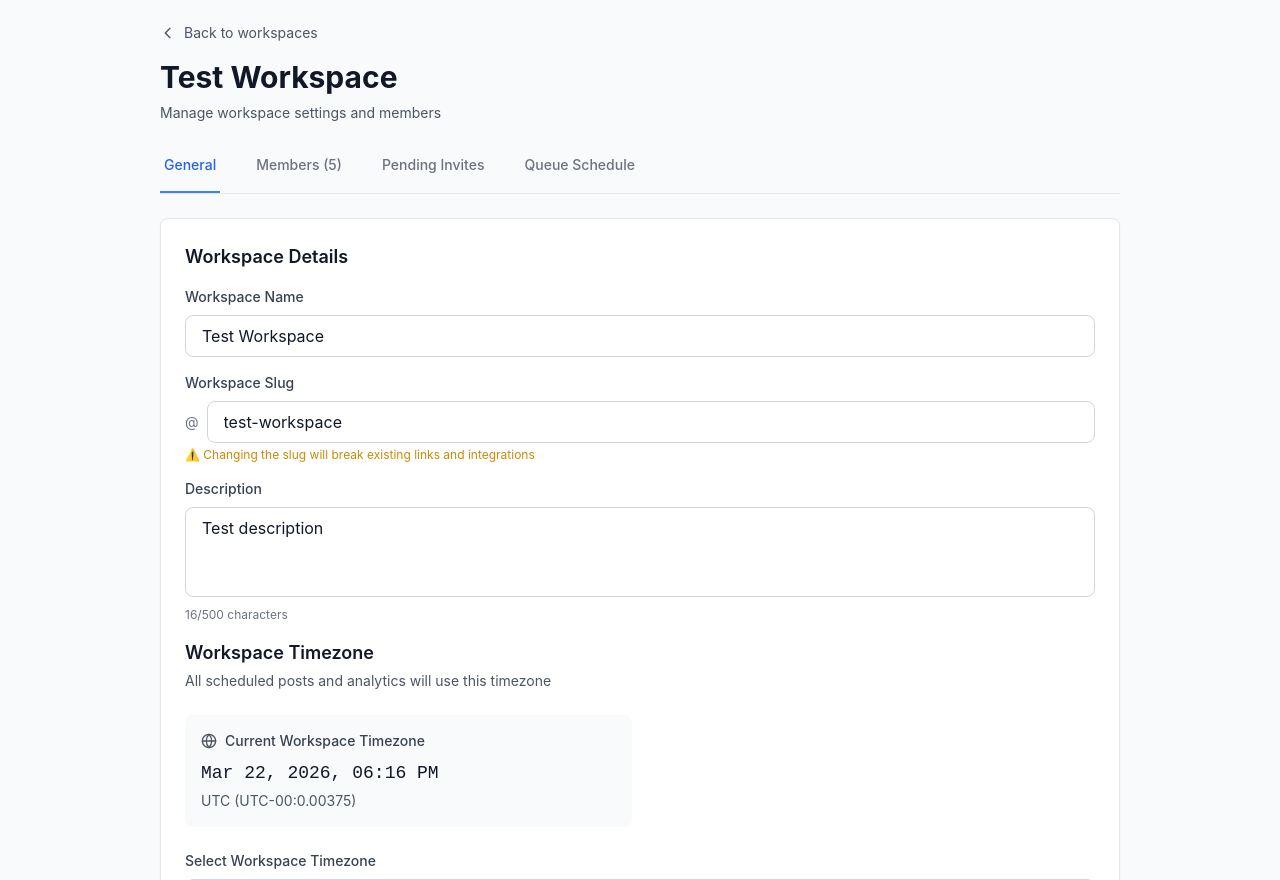
workspace name › shows a spinner inside the Save button while in-flight
Replace the text in the field showing "Test Workspace" below "Workspace Name" with "Updated Workspace" at [640, 336], box [185,315,1095,357]
(page scrolled)
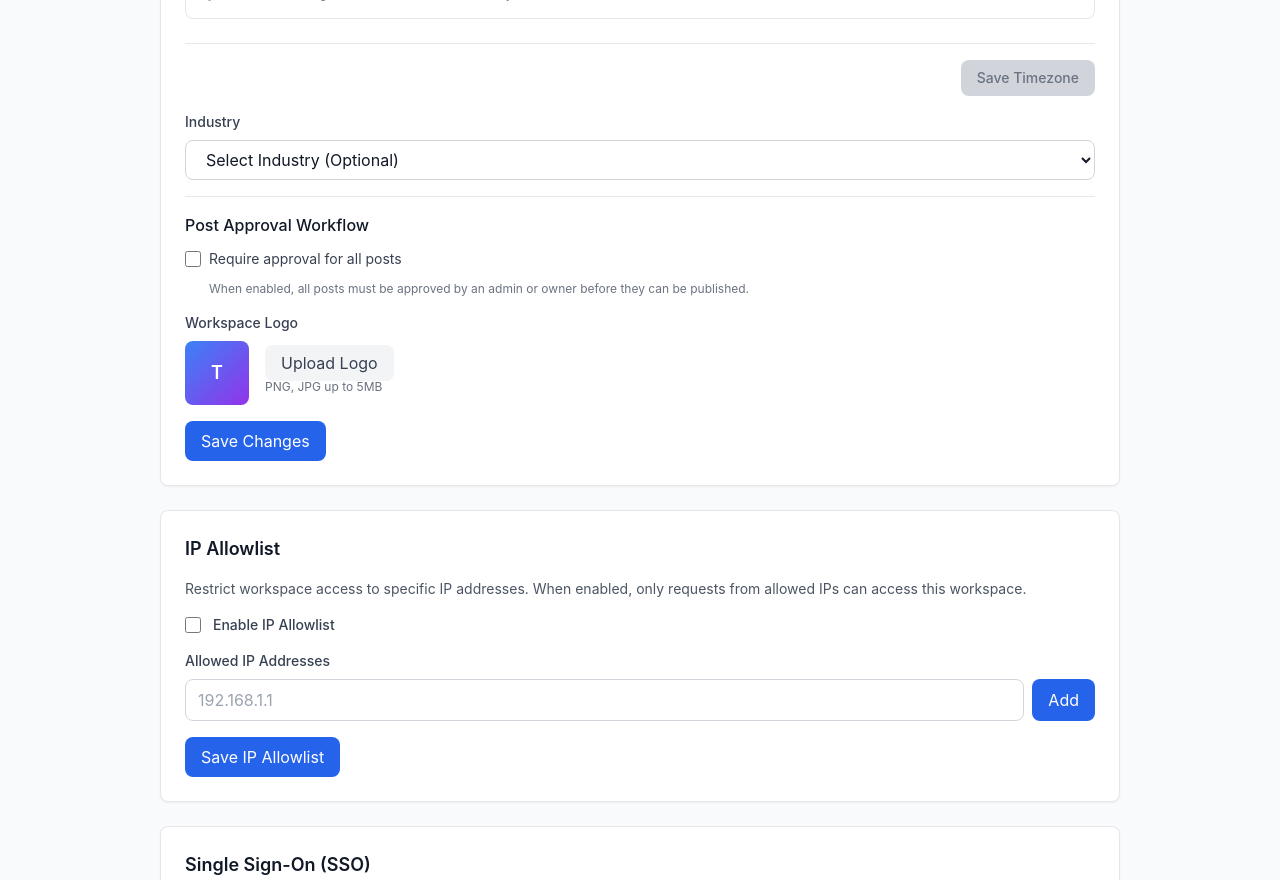
Click the button "Save Changes" at [255, 441], box [185,421,326,461]
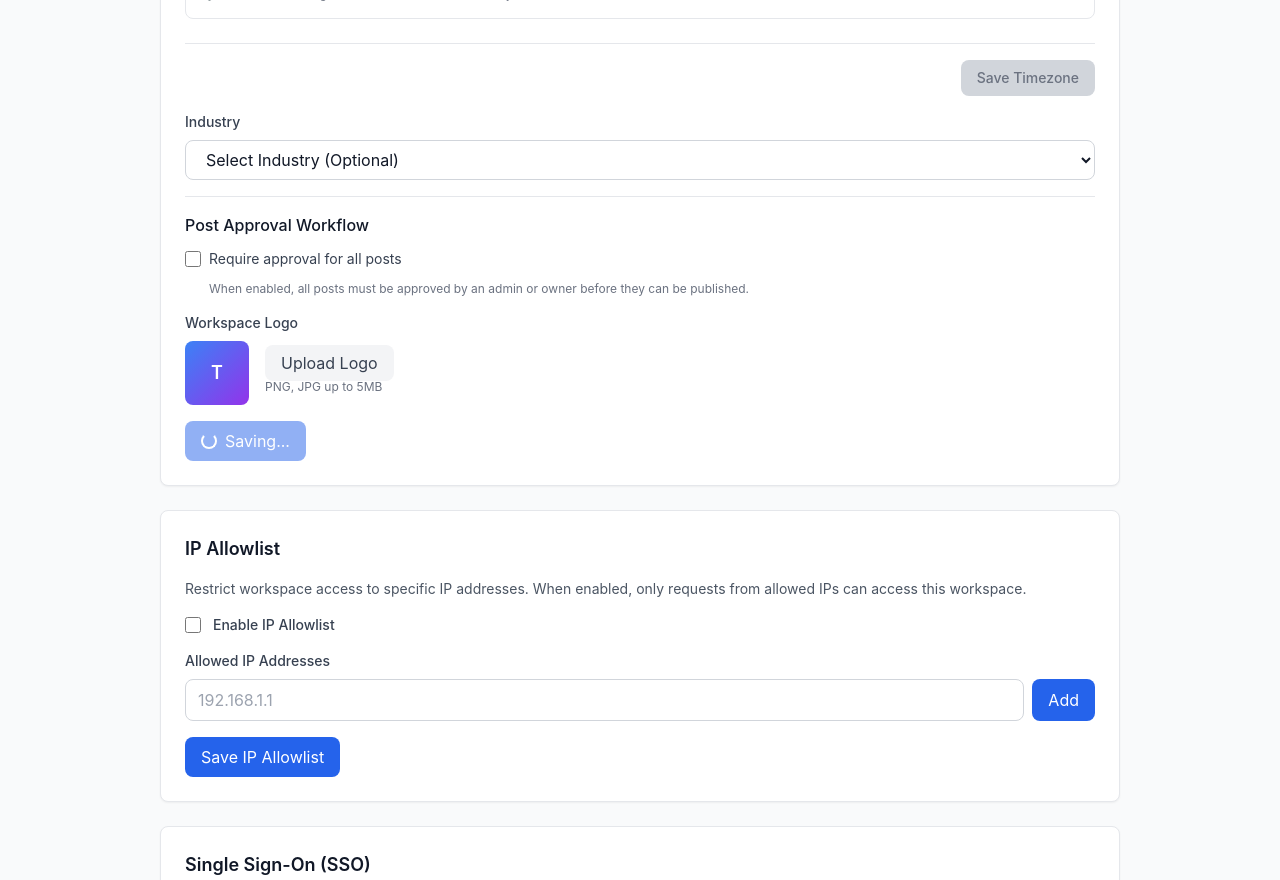
Check: the button "Saving..." is shown, box [185,421,306,461]
Check: the element with class "animate-spin" is shown, box [201,433,217,449]
